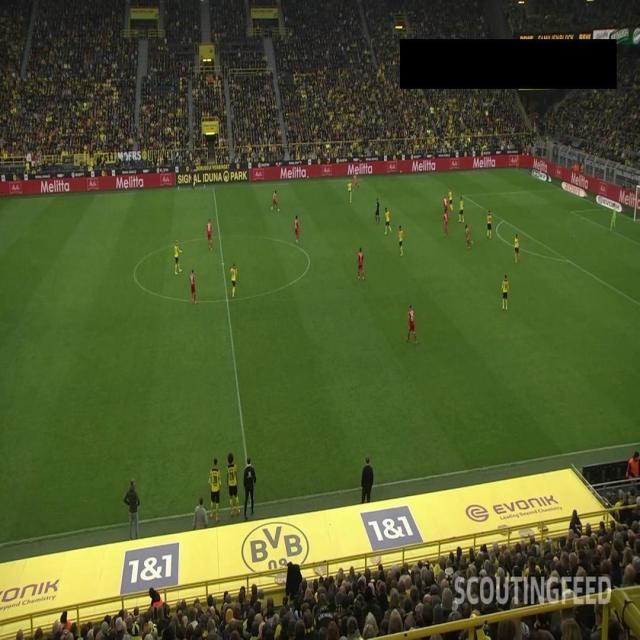ball: (353, 189, 355, 193)
goalkeeper: (610, 209, 617, 232)
player: (406, 304, 418, 343), (174, 239, 183, 276), (501, 274, 510, 311), (357, 247, 366, 281), (230, 262, 238, 298), (190, 269, 197, 305), (385, 206, 393, 235), (207, 218, 214, 251), (398, 225, 405, 257), (465, 223, 473, 249), (271, 189, 280, 212), (443, 211, 450, 239), (486, 209, 492, 240), (351, 173, 360, 193), (295, 215, 301, 245), (514, 233, 520, 263), (442, 194, 449, 219), (459, 195, 465, 223), (448, 187, 454, 212), (347, 181, 353, 203)
referee: (375, 197, 381, 224), (190, 165, 196, 191)
